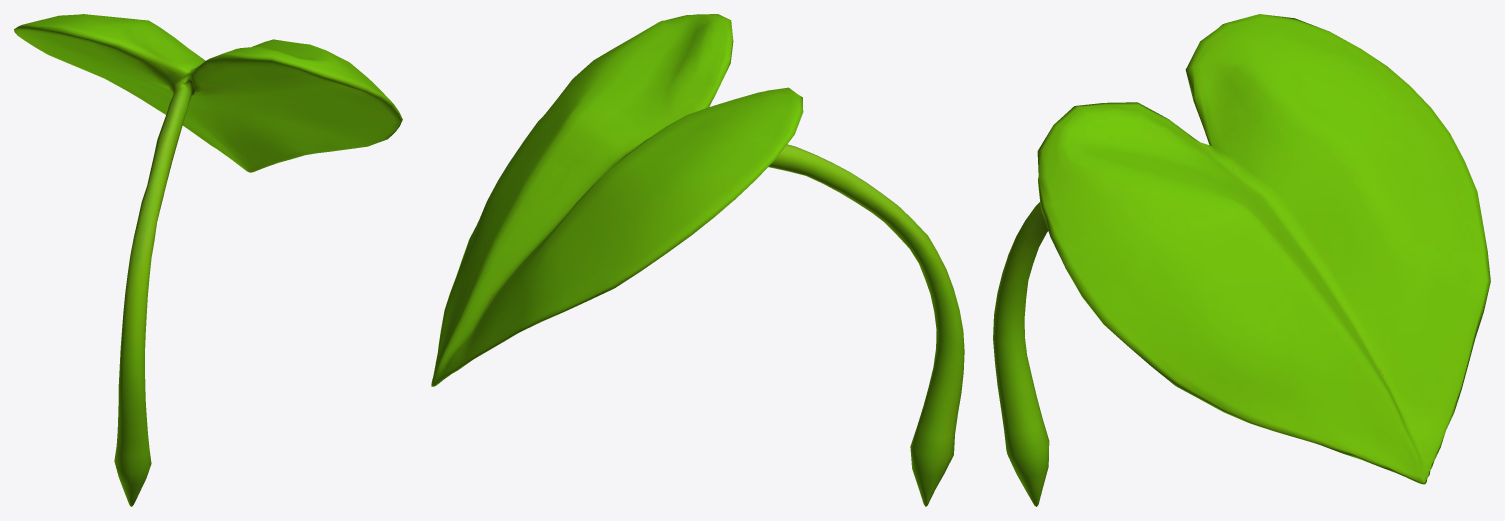
The model's file is monstera_leaf_mid2_v1.glb.
The picture shows the model from 3 angles, left to right: view 1: azimuth 30°, elevation 25°; view 2: azimuth 150°, elevation 25°; view 3: azimuth 270°, elevation 25°; orthographic projection. The views are drawn at different scales.
Visible parts, largest first — view 1: tripo_node_42b3a434-74ea-4809-adca-7140d944601e; view 2: tripo_node_42b3a434-74ea-4809-adca-7140d944601e; view 3: tripo_node_42b3a434-74ea-4809-adca-7140d944601e.
Boxes of the visible parts, <box> form: tripo_node_42b3a434-74ea-4809-adca-7140d944601e: <box>14,14,402,506</box>; tripo_node_42b3a434-74ea-4809-adca-7140d944601e: <box>431,14,964,506</box>; tripo_node_42b3a434-74ea-4809-adca-7140d944601e: <box>993,14,1490,506</box>.
Bounding box in the file's own units: 0.8527 × 0.9951 × 0.8866.
1 material, 1 textured.
